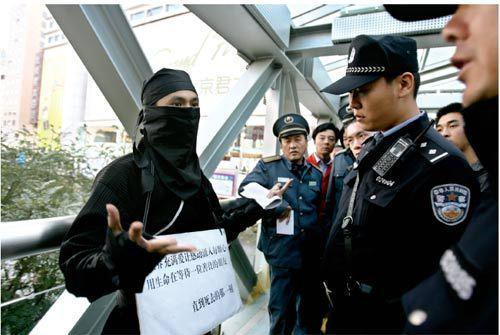NONE: (443, 7, 500, 104), (350, 83, 396, 130), (435, 116, 473, 154), (345, 127, 379, 161), (284, 137, 307, 159), (317, 132, 336, 154)
OK: (158, 89, 205, 136)
